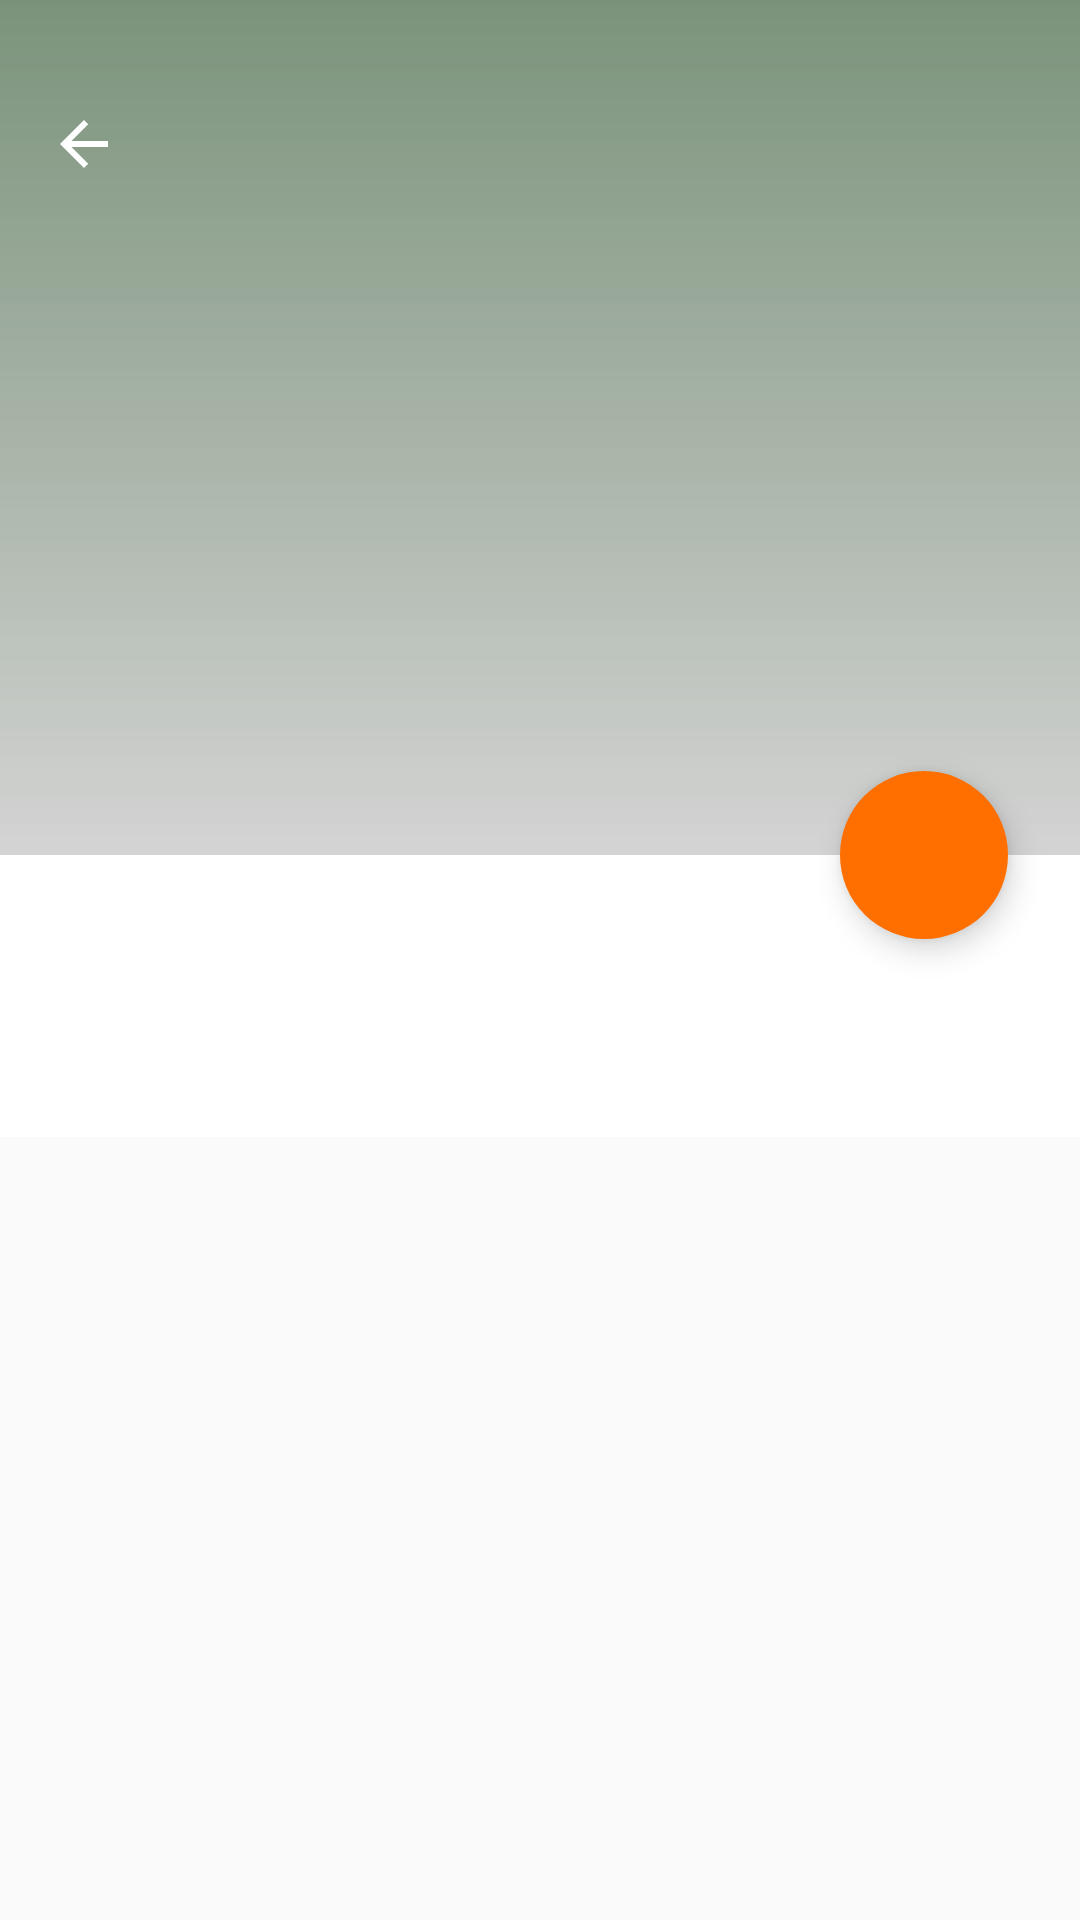

Where icons sit on this 1080px×1920px app screen, as (x1, y1, x2, y2):
Up: (60, 120, 108, 168)
